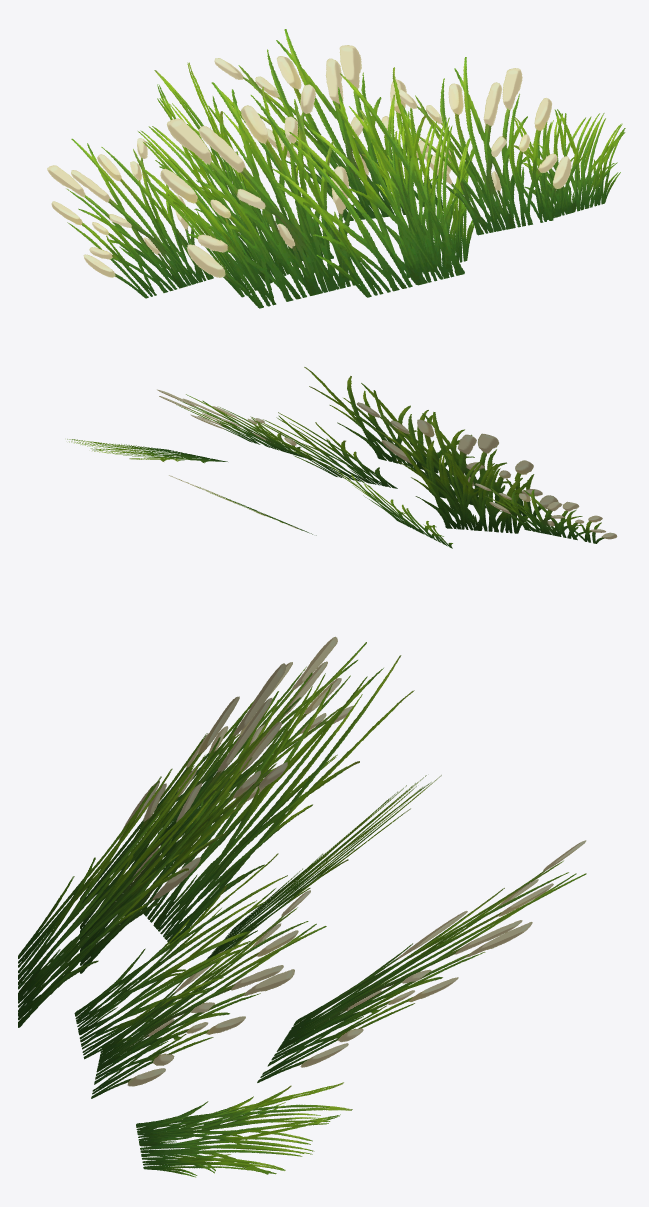
Rendered from 2_Plant_Cao_03.FBX.
The picture shows the model from 3 angles, top to bottom: view 1: azimuth 30°, elevation 25°; view 2: azimuth 150°, elevation 25°; view 3: azimuth 270°, elevation 25°; orthographic projection. The views are drawn at different scales.
Visible parts, largest first — view 1: 2_Plant_Cao_03; view 2: 2_Plant_Cao_03; view 3: 2_Plant_Cao_03.
Boxes of the visible parts, x1,y1,x2,y2 form: 2_Plant_Cao_03: (47, 29, 625, 308); 2_Plant_Cao_03: (67, 367, 617, 548); 2_Plant_Cao_03: (18, 636, 586, 1177).
Bounding box in the file's own units: 362 × 99.58 × 211.
